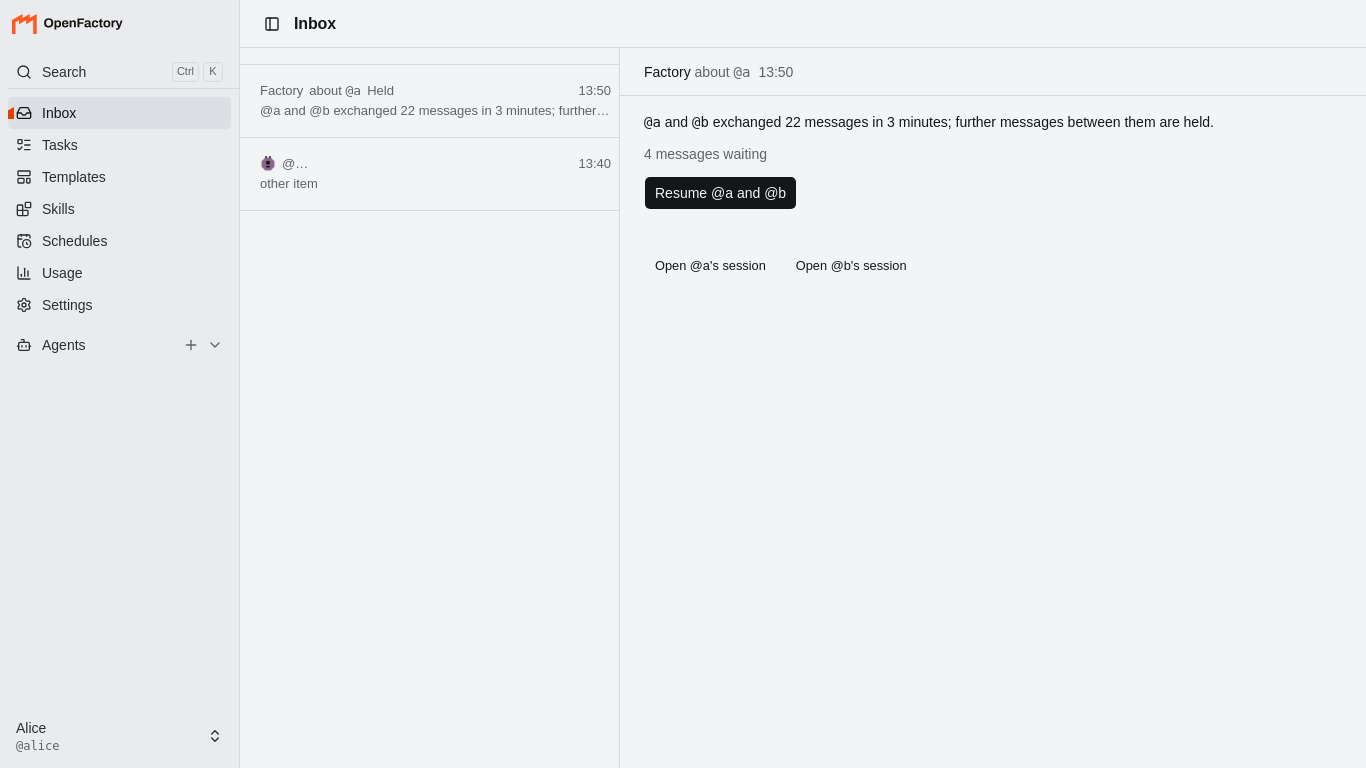
Test case: a failed Resume keeps the button and says so
Expected: the text "exchanged 22 messages" is shown, [709, 114, 1214, 130]
Step 1. Click the button "Resume @a and @b" → (721, 193), box [644, 176, 797, 210]
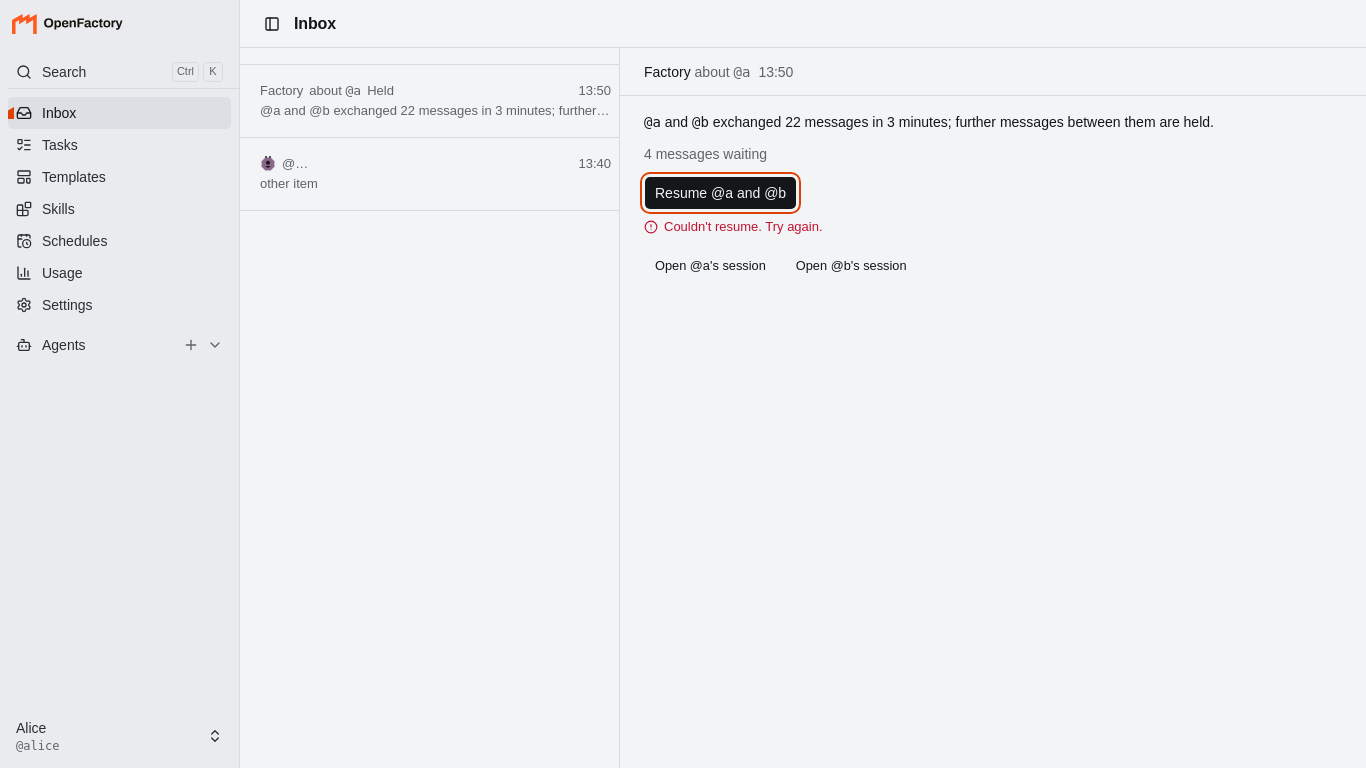
Result: the text "Couldn't resume. Try again." is shown at [664, 218, 823, 236]
